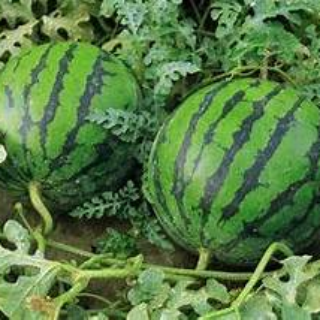dua_hau: (148, 74, 317, 261), (1, 42, 144, 206)
